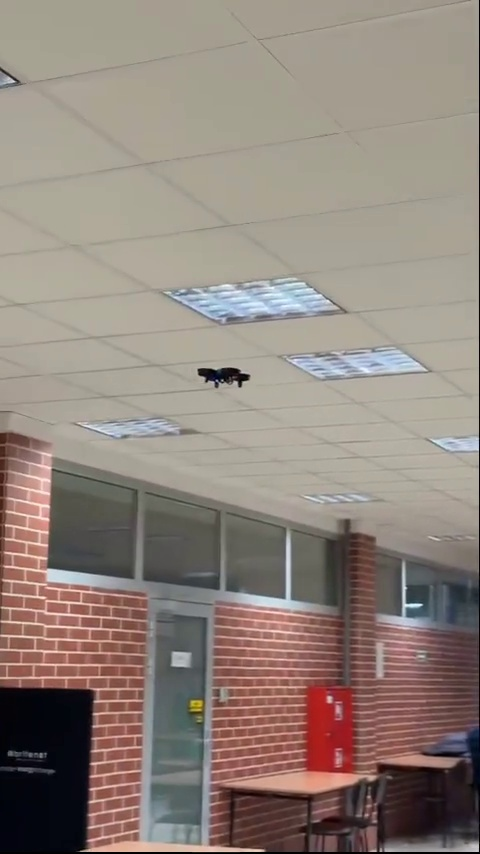drone: (196, 365, 257, 392)
